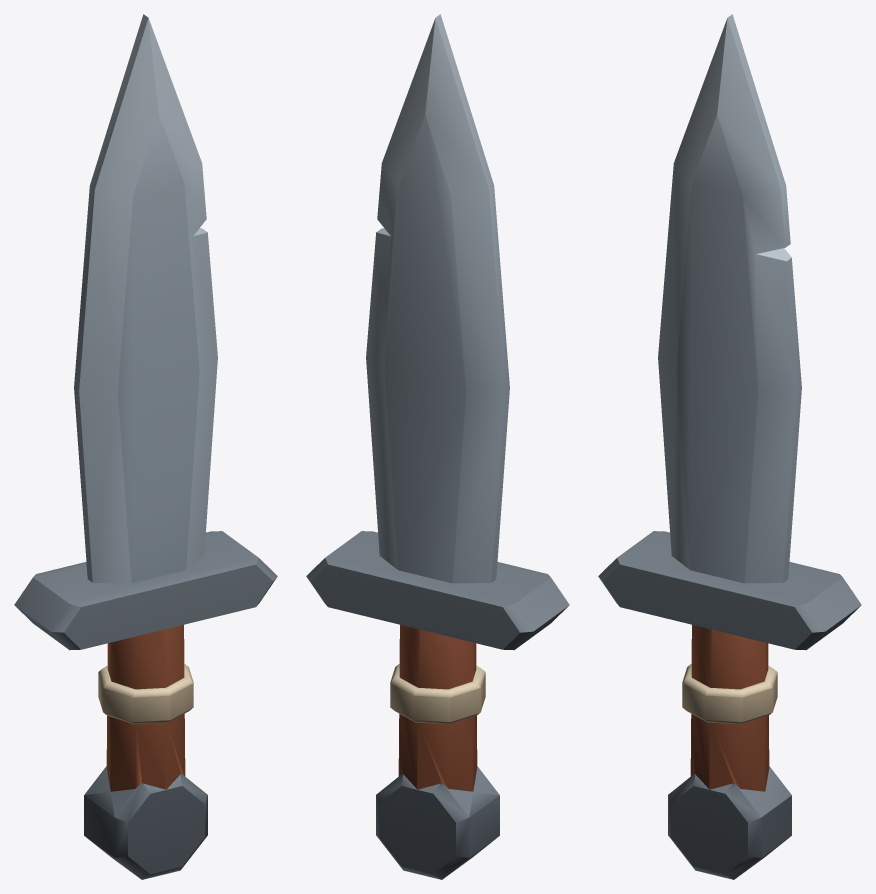
Rendered from dagger_dirk.glb.
3 views of the same model, side by side, from view 1: azimuth 30°, elevation 25°; view 2: azimuth 150°, elevation 25°; view 3: azimuth 330°, elevation 25° (orthographic).
Parts seen in each view (by area): view 1: Item; view 2: Item; view 3: Item.
Boxes of the visible parts, box(x1,y1,x2,y2) form: Item: box(14, 14, 277, 879); Item: box(306, 14, 569, 879); Item: box(598, 14, 861, 879).
Bounding box in the file's own units: 0.36 × 1.28 × 0.1357.
2 materials, 2 textured.
